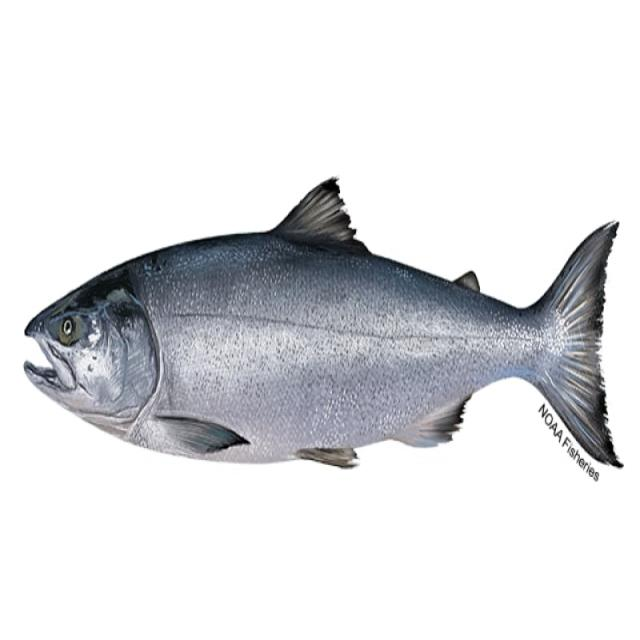salmon: (14, 169, 633, 521)
